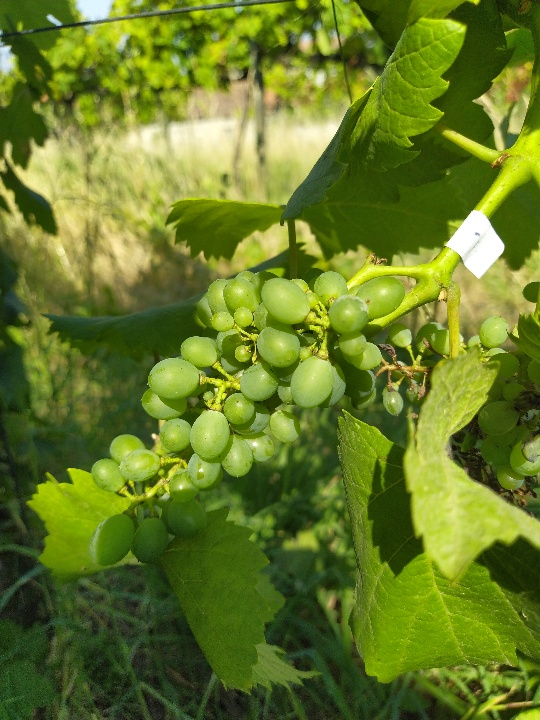grape: (71, 259, 425, 577)
